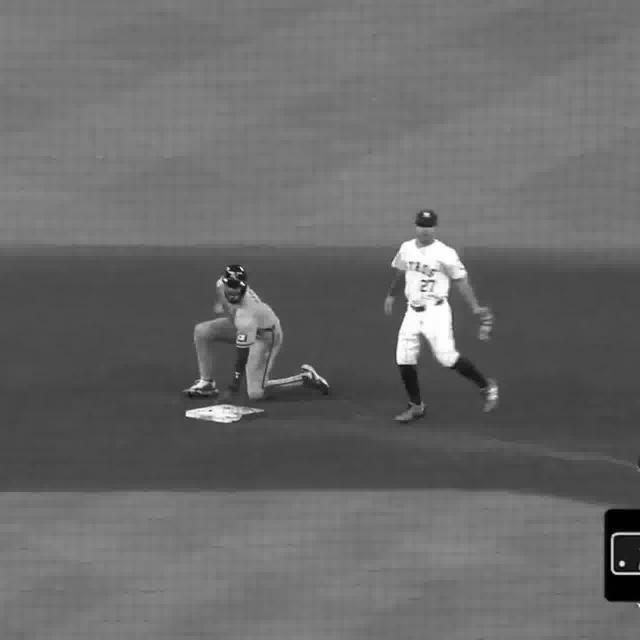base: (186, 406, 264, 423)
baseball_glove: (475, 306, 496, 340)
shoe: (302, 368, 332, 396), (395, 399, 425, 426), (484, 377, 502, 413), (183, 378, 216, 397)
